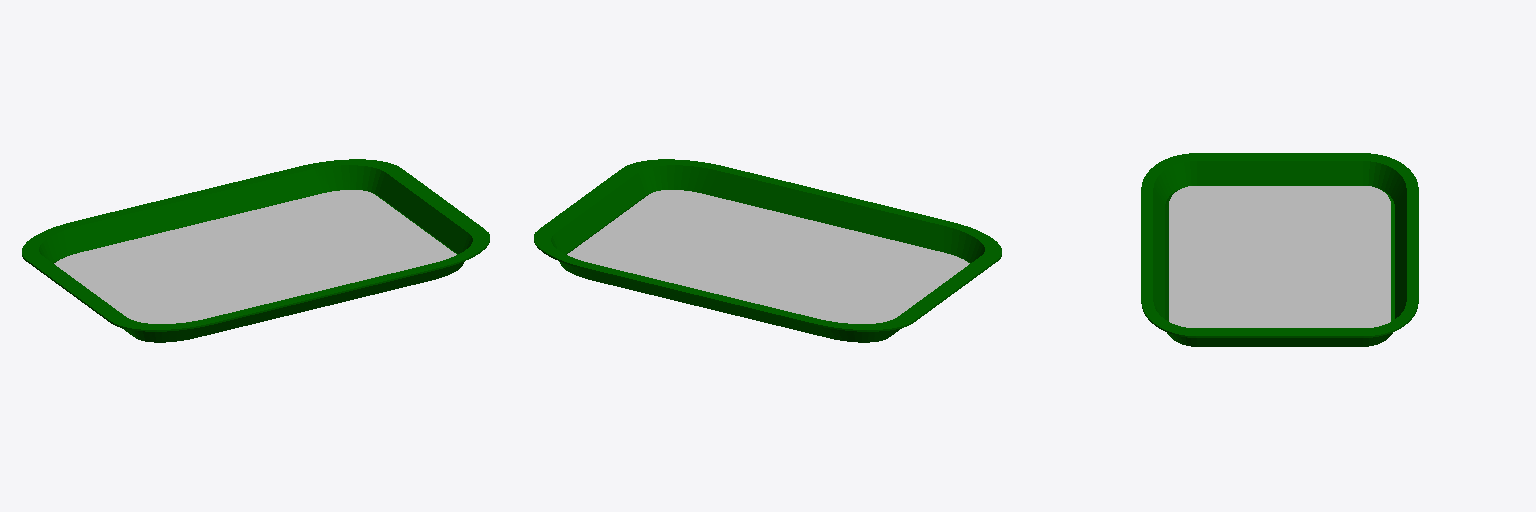
Rendered from plate.obj.
3 views of the same model, side by side, from view 1: azimuth 30°, elevation 25°; view 2: azimuth 150°, elevation 25°; view 3: azimuth 270°, elevation 25° (orthographic).
Visible parts, largest first — view 1: Cube_Cube.001; view 2: Cube_Cube.001; view 3: Cube_Cube.001.
Boxes of the visible parts, <box> form: Cube_Cube.001: <box>22,159,489,342</box>; Cube_Cube.001: <box>534,159,1001,342</box>; Cube_Cube.001: <box>1141,153,1418,346</box>.
Bounding box in the file's own units: 3.39 × 0.1951 × 2.17.